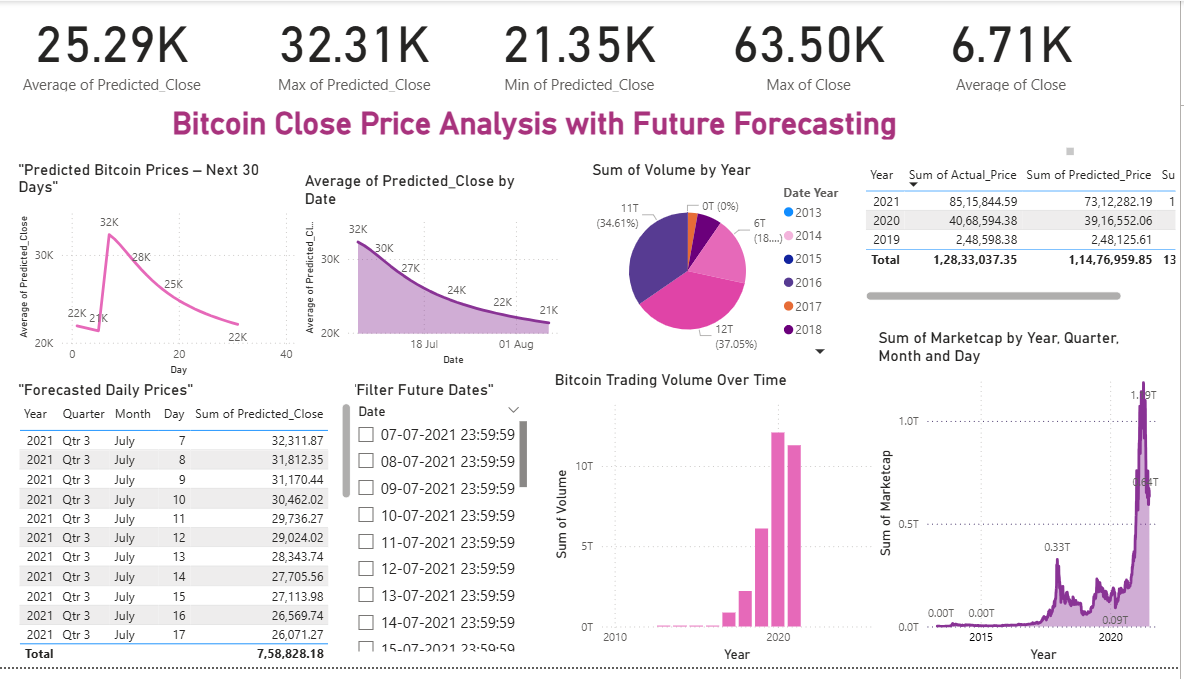

The dashboard page shown, as its layout file describes it:
{"tool":"powerbi","page":{"name":"Page 1","canvas":[1280,720],"ordinal":0},"visuals":[{"type":"clusteredColumnChart","title":"Bitcoin Trading Volume Over Time","fields":{"Category":["coin_Bitcoin.Date.Variation.Date Hierarchy.Year","coin_Bitcoin.Date.Variation.Date Hierarchy.Quarter","coin_Bitcoin.Date.Variation.Date Hierarchy.Month","coin_Bitcoin.Date.Variation.Date Hierarchy.Day"],"Y":["Sum(coin_Bitcoin.Volume)"]},"box":[599.6,398.4,353.8,321.4],"z":0},{"type":"card","fields":{"Values":["Avg(coin_Bitcoin.Close)"]},"box":[979.1,0,237.7,102.6],"z":1000},{"type":"card","fields":{"Values":["Max(coin_Bitcoin.Close)"]},"box":[761.7,0,235,102.6],"z":2000},{"type":"pieChart","fields":{"Category":["coin_Bitcoin.Date.Variation.Date Hierarchy.Year"],"Y":["Sum(coin_Bitcoin.Volume)"]},"box":[640.1,171.5,294.4,220.1],"z":3000},{"type":"tableEx","fields":{"Values":["bitcoin_predictions.Date.Variation.Date Hierarchy.Year","Sum(bitcoin_predictions.Actual_Price)","Sum(bitcoin_predictions.Predicted_Price)","Sum(bitcoin_predictions.Error)"]},"box":[934.5,171.5,345.7,156.7],"z":4000},{"type":"areaChart","fields":{"Y":["Sum(coin_Bitcoin.Marketcap)"],"Category":["coin_Bitcoin.Date.Variation.Date Hierarchy.Year","coin_Bitcoin.Date.Variation.Date Hierarchy.Quarter","coin_Bitcoin.Date.Variation.Date Hierarchy.Month","coin_Bitcoin.Date.Variation.Date Hierarchy.Day"]},"box":[949.4,353.8,316,366],"z":5000},{"type":"lineChart","title":"\"Predicted Bitcoin Prices – Next 30 Days\"","fields":{"Y":["Avg(bitcoin_future_predictions.Predicted_Close)"],"Category":["bitcoin_future_predictions.Date.Variation.Date Hierarchy.Day"]},"box":[20.3,171.5,309.3,237.7],"z":6000},{"type":"card","fields":{"Values":["Min(bitcoin_future_predictions.Predicted_Close)"]},"box":[522.6,0,217.4,102.6],"z":7000},{"type":"card","fields":{"Values":["Avg(bitcoin_future_predictions.Predicted_Close)"]},"box":[0,0,252.5,102.6],"z":8000},{"type":"card","fields":{"Values":["Max(bitcoin_future_predictions.Predicted_Close)"]},"box":[278.2,0,220.1,102.6],"z":9000},{"type":"slicer","title":"\"Filter Future Dates\"","fields":{"Values":["bitcoin_future_predictions.Date"]},"box":[379.5,409.2,199.9,298.5],"z":10000},{"type":"tableEx","title":"\"Forecasted Daily Prices\"","fields":{"Values":["bitcoin_future_predictions.Date.Variation.Date Hierarchy.Year","bitcoin_future_predictions.Date.Variation.Date Hierarchy.Quarter","bitcoin_future_predictions.Date.Variation.Date Hierarchy.Month","bitcoin_future_predictions.Date.Variation.Date Hierarchy.Day","Sum(bitcoin_future_predictions.Predicted_Close)"]},"box":[20.3,409.2,368.7,310.6],"z":11000},{"type":"areaChart","fields":{"Y":["Avg(bitcoin_future_predictions.Predicted_Close)"],"Category":["bitcoin_future_predictions.Date"]},"box":[329.5,183.7,293.1,214.7],"z":12000},{"type":"textbox","title":"Bitcoin Close Price Analysis with Future Forecasting","box":[186.4,112.1,984.5,59.4],"z":13000}]}

Visuals, with their boxes in screenshot pixels (x1, y1, x2, y2), scaled from the page's 1280x720 canvas onto the 1184x679 screenshot:
"Bitcoin Trading Volume Over Time" clusteredColumnChart: detection(555, 376, 882, 678)
card - Avg(coin_Bitcoin.Close): detection(906, 0, 1126, 97)
card - Max(coin_Bitcoin.Close): detection(705, 0, 922, 97)
pieChart - coin_Bitcoin.Date.Variation.Date Hierarchy.Year x Sum(coin_Bitcoin.Volume): detection(592, 162, 864, 369)
tableEx - bitcoin_predictions.Date.Variation.Date Hierarchy.Year x Sum(bitcoin_predictions.Actual_Price): detection(864, 162, 1183, 310)
areaChart - Sum(coin_Bitcoin.Marketcap) x coin_Bitcoin.Date.Variation.Date Hierarchy.Year: detection(878, 334, 1170, 678)
""Predicted Bitcoin Prices – Next 30 Days"" lineChart: detection(19, 162, 305, 386)
card - Min(bitcoin_future_predictions.Predicted_Close): detection(483, 0, 684, 97)
card - Avg(bitcoin_future_predictions.Predicted_Close): detection(0, 0, 234, 97)
card - Max(bitcoin_future_predictions.Predicted_Close): detection(257, 0, 461, 97)
""Filter Future Dates"" slicer: detection(351, 386, 536, 667)
""Forecasted Daily Prices"" tableEx: detection(19, 386, 360, 678)
areaChart - Avg(bitcoin_future_predictions.Predicted_Close) x bitcoin_future_predictions.Date: detection(305, 173, 576, 376)
"Bitcoin Close Price Analysis with Future Forecasting" textbox: detection(172, 106, 1083, 162)
